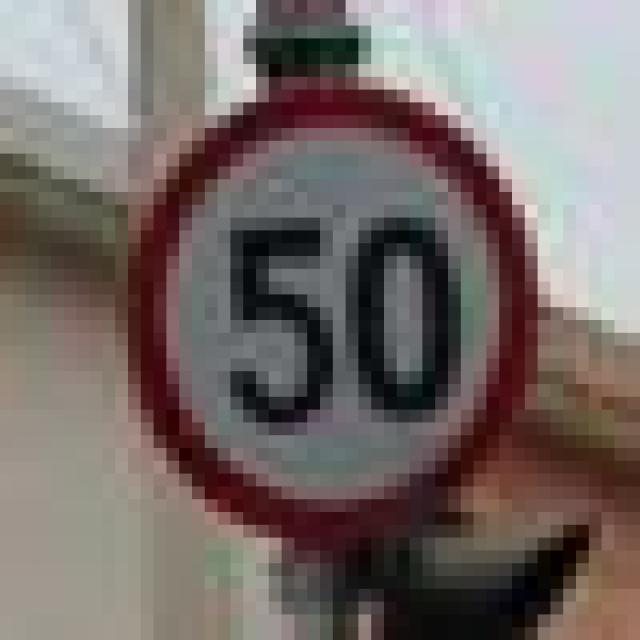SPEED_LIMIT_50: (128, 64, 525, 525)
